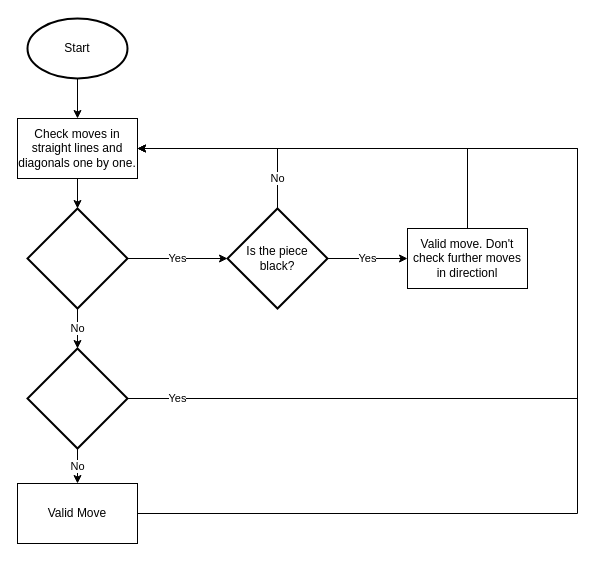
Some shapes in this 603 by 561 pixel diagram are drawn without their labels. Each missing label, with the centre of its shape:
"Is there a piece in the way?" belongs at point (77, 258).
"Would moving put your king in check" belongs at point (77, 398).
